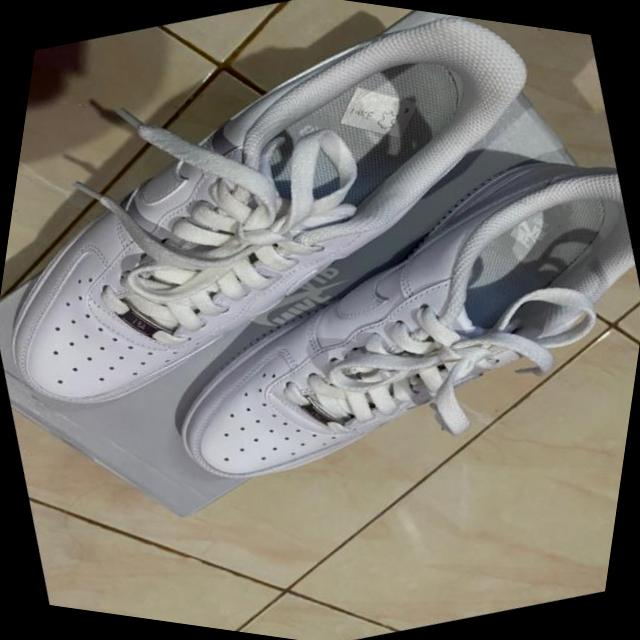nike_original_airforce: (0, 0, 614, 494), (84, 74, 640, 560)
